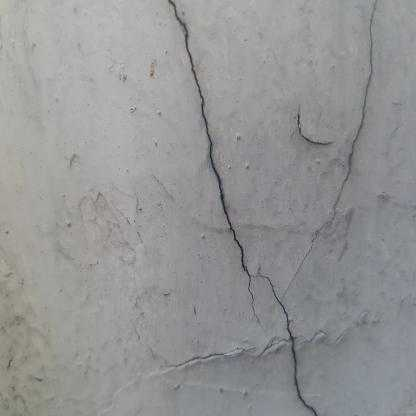crack: (166, 2, 320, 414), (282, 3, 380, 299)
